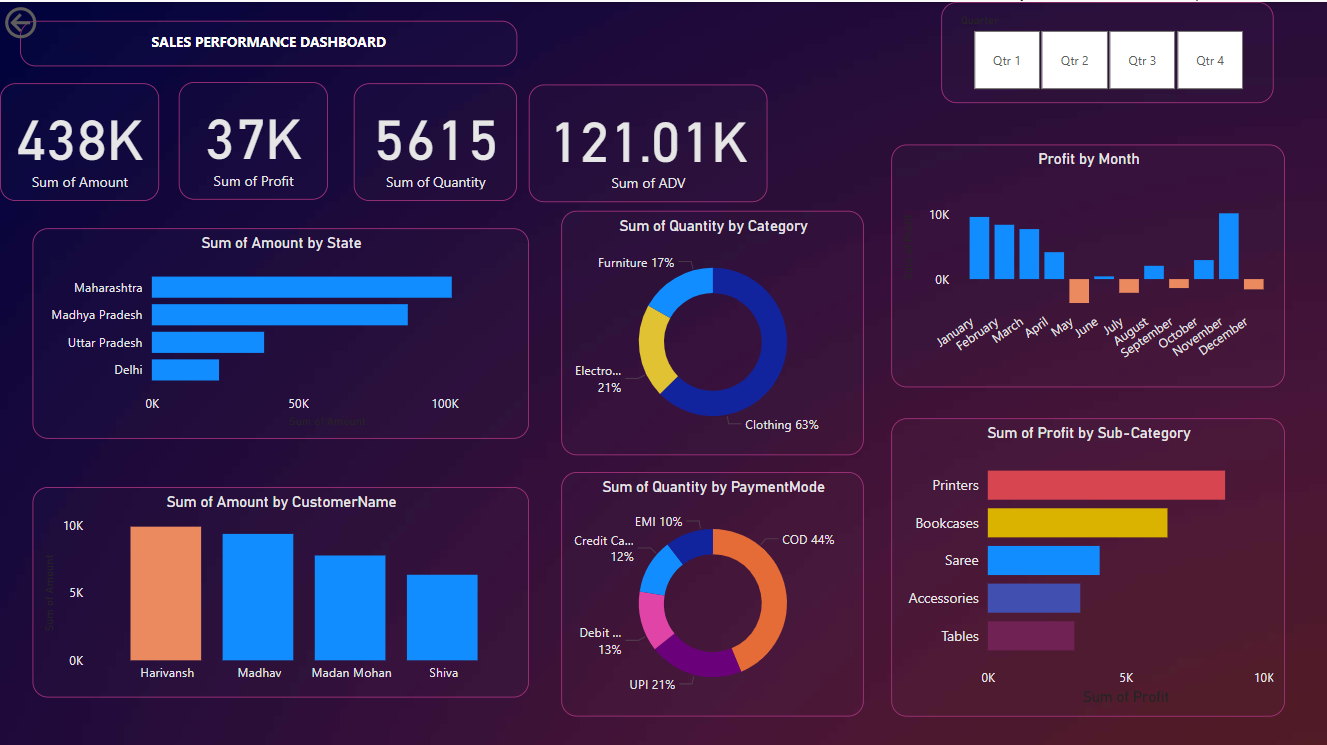

The dashboard page shown, as its layout file describes it:
{"tool":"powerbi","page":{"name":"Page 1","canvas":[1280,720],"ordinal":0},"visuals":[{"type":"columnChart","title":"Profit by Month","fields":{"Y":["Details.Profit"],"Category":["Orders.Order Date.Variation.Date Hierarchy.Month"]},"box":[860.4,137.2,380.1,234.6],"z":0},{"type":"barChart","fields":{"Category":["Details.Sub-Category"],"Y":["Details.Profit"]},"box":[860.4,402.1,380.1,288.2],"z":1000},{"type":"donutChart","fields":{"Y":["Details.Quantity"],"Category":["Details.PaymentMode"]},"box":[542,454.2,292.3,236],"z":3000},{"type":"card","fields":{"Values":["Details.Amount"]},"box":[0,78.2,153.7,113.9],"z":4000},{"type":"card","fields":{"Values":["Details.Profit"]},"box":[172.9,76.8,144.1,113.9],"z":5000},{"type":"textbox","box":[19.2,17.8,480.3,43.9],"z":6000},{"type":"card","fields":{"Values":["Details.Quantity"]},"box":[341.7,78.2,157.8,113.9],"z":7000},{"type":"card","fields":{"Values":["Details.ADV"]},"box":[510.5,79.6,230.5,113.9],"z":8000},{"type":"barChart","fields":{"Category":["Orders.State"],"Y":["Details.Amount"]},"box":[31.6,218.2,478.9,203.1],"z":9000},{"type":"columnChart","fields":{"Category":["Orders.CustomerName"],"Y":["Details.Amount"]},"box":[31.6,467.9,478.9,203.1],"z":10000},{"type":"actionButton","box":[0,0,100,40],"z":11000},{"type":"donutChart","fields":{"Y":["Details.Quantity"],"Category":["Details.Category"]},"box":[542,201.7,292.3,236],"z":12000},{"type":"slicer","fields":{"Values":["Orders.Order Date.Variation.Date Hierarchy.Quarter"]},"box":[908.4,0,321.1,97.4],"z":13000}]}

Visuals, with their boxes in screenshot pixels (x1, y1, x2, y2), scaled from the page's 1280x720 canvas onto the 1327x745 screenshot:
"Profit by Month" columnChart: <region>892, 142, 1286, 385</region>
barChart - Details.Sub-Category x Details.Profit: <region>892, 416, 1286, 714</region>
donutChart - Details.Quantity x Details.PaymentMode: <region>562, 470, 865, 714</region>
card - Details.Amount: <region>0, 81, 159, 199</region>
card - Details.Profit: <region>179, 79, 329, 197</region>
textbox: <region>20, 18, 518, 64</region>
card - Details.Quantity: <region>354, 81, 518, 199</region>
card - Details.ADV: <region>529, 82, 768, 200</region>
barChart - Orders.State x Details.Amount: <region>33, 226, 529, 436</region>
columnChart - Orders.CustomerName x Details.Amount: <region>33, 484, 529, 694</region>
actionButton: <region>0, 0, 104, 41</region>
donutChart - Details.Quantity x Details.Category: <region>562, 209, 865, 453</region>
slicer - Orders.Order Date.Variation.Date Hierarchy.Quarter: <region>942, 0, 1275, 101</region>
